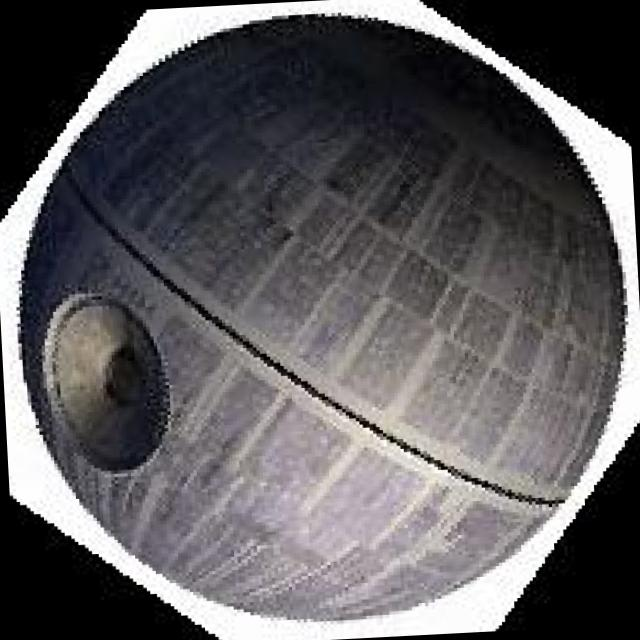Death Star: (4, 9, 640, 636)
